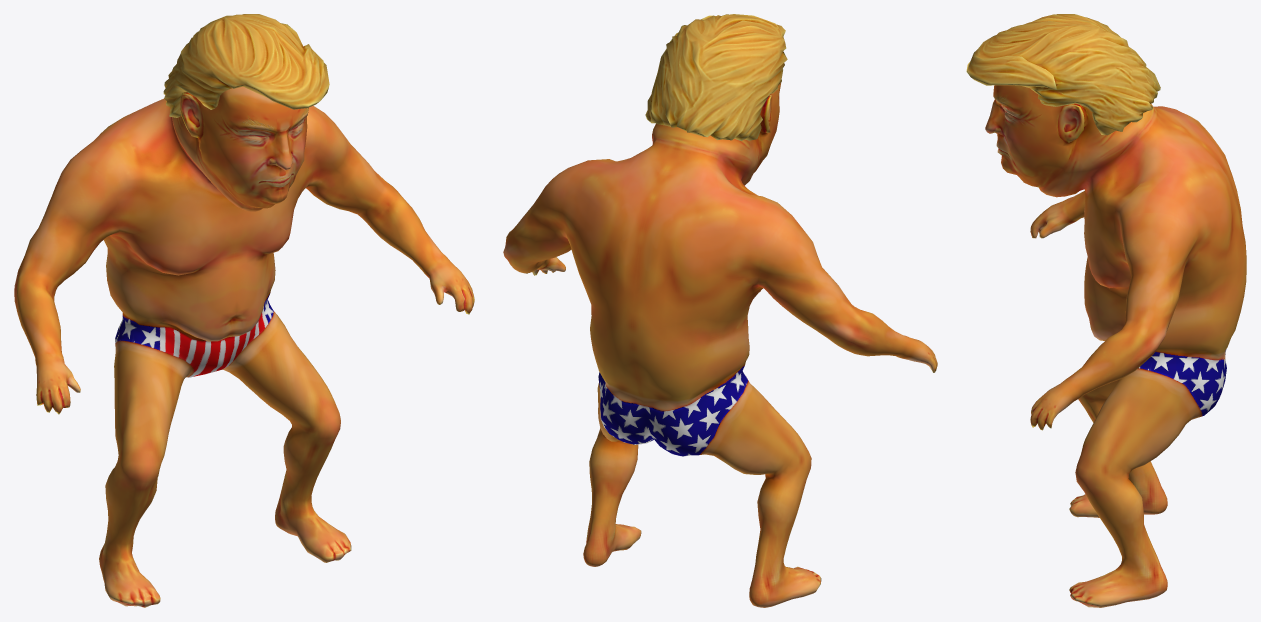
File: trump_in_speedos_-_free.glb
3 renders of one model, left to right at view 1: azimuth 30°, elevation 25°; view 2: azimuth 150°, elevation 25°; view 3: azimuth 270°, elevation 25°, orthographic. The views are drawn at different scales.
Visible parts, largest first — view 1: Object_2; view 2: Object_2; view 3: Object_2.
Boxes of the visible parts, x1=… form: Object_2: x1=14, y1=14, x2=474, y2=607; Object_2: x1=503, y1=14, x2=937, y2=607; Object_2: x1=966, y1=14, x2=1246, y2=607.
Size of the model in its own units: 1.86 by 2.3 by 1.09.
Materials: 1 (1 with a texture image).
